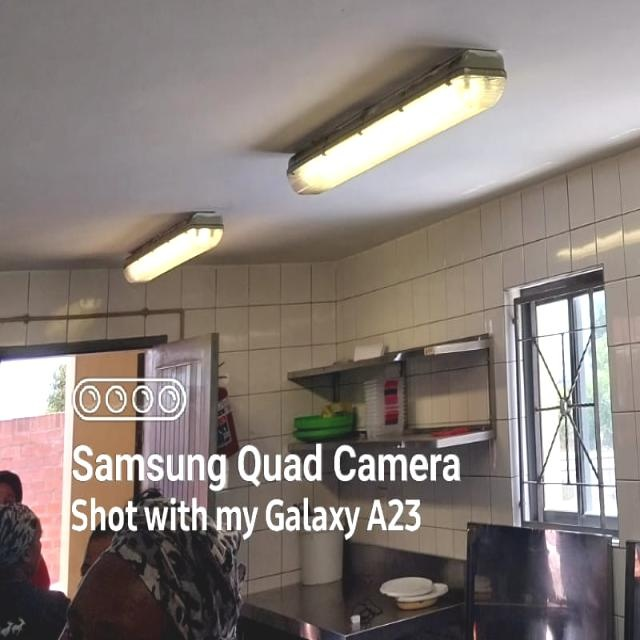fluorescent tube: (243, 29, 521, 227), (100, 194, 235, 302)
